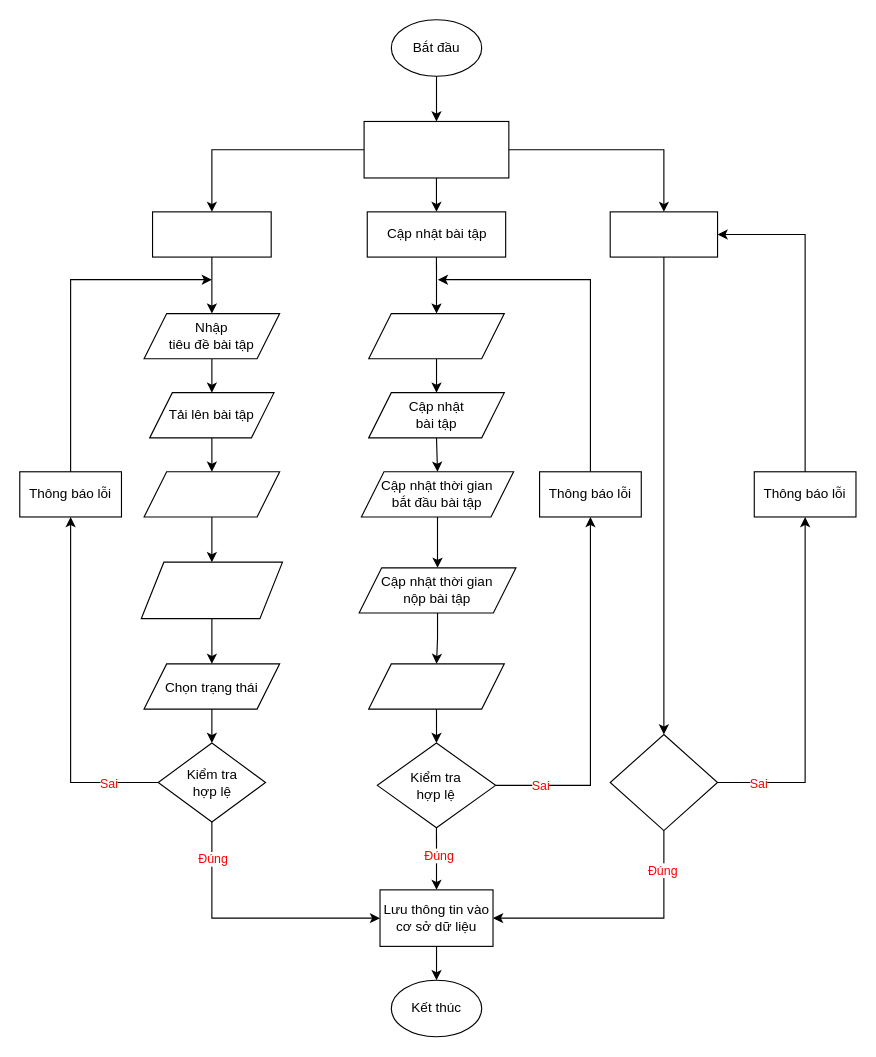
The diagram is 876 pixels wide and 1057 high, and some of its shapes have lost their labels. The centre of each missing label's shape, as x and y in pixels:
"Chọn thời gian bắt đầu bài tập" belongs at point 211,494.
"Chọn thời hạn nộp bài tập" belongs at point 211,590.
"Cập nhật tiêu đề bài tập" belongs at point 436,335.
"Cập nhật trạng thái" belongs at point 436,686.
"Danh sách bài tập" belongs at point 436,149.
"Kiểm tra tồn tại" belongs at point 663,782.
"Thêm bài tập" belongs at point 211,234.
"Xóa bài tập" belongs at point 663,234.
